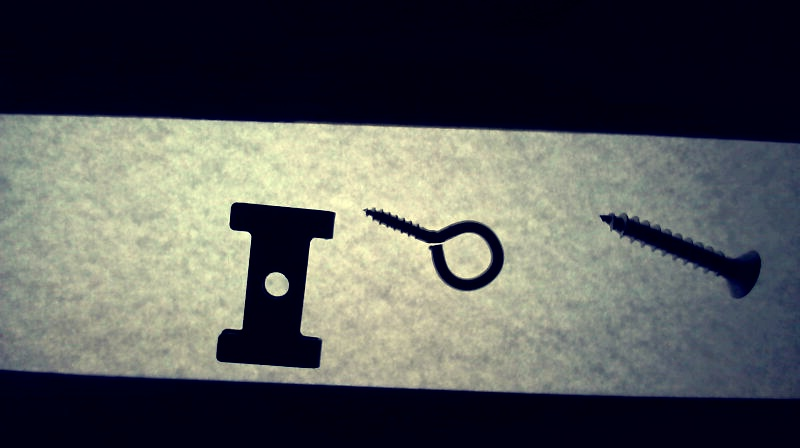O001: (357, 205, 508, 295)
O002: (209, 199, 338, 371)
S001: (594, 209, 763, 302)
